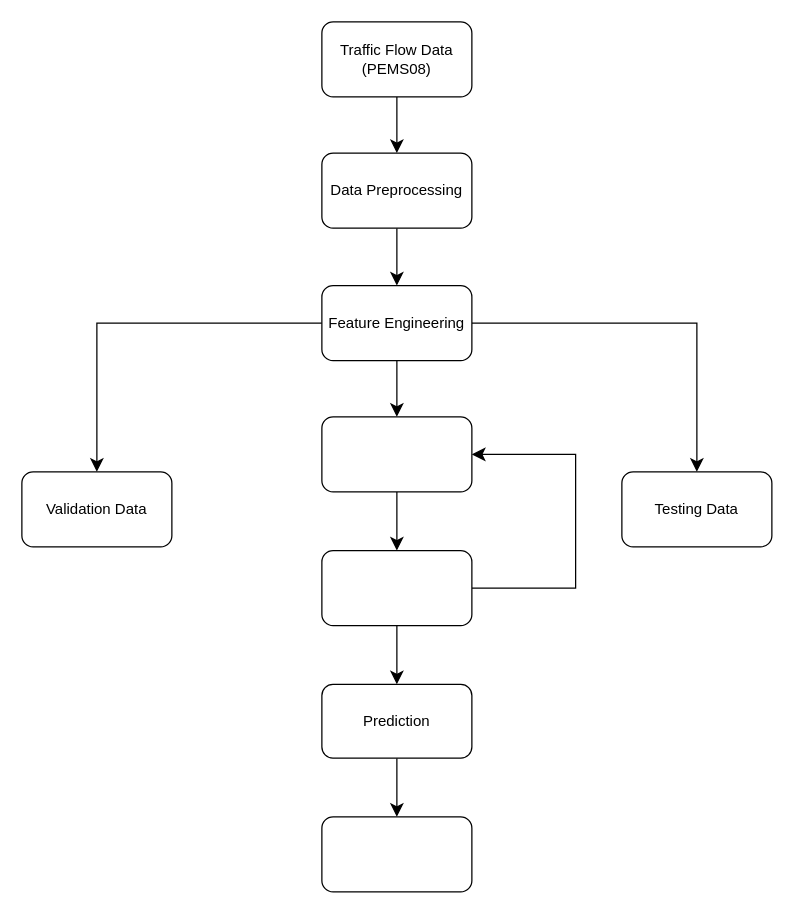
This 794x914 diagram has some shape labels left out. The shapes that lost their labels are listed below. From the top down, each one's centre as x and y in pixels, then its label:
(396,454): Training Data
(396,587): Model Evaluation
(396,854): Final Model
